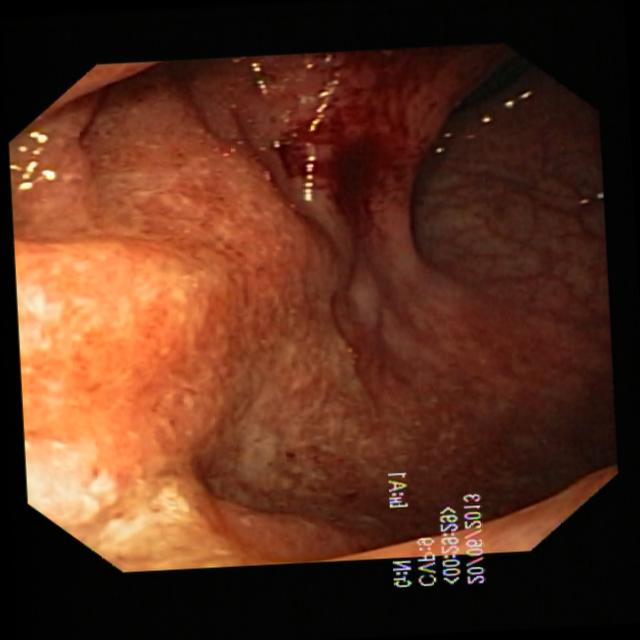ulcerative-colities: (201, 317, 599, 558), (250, 44, 484, 269)
